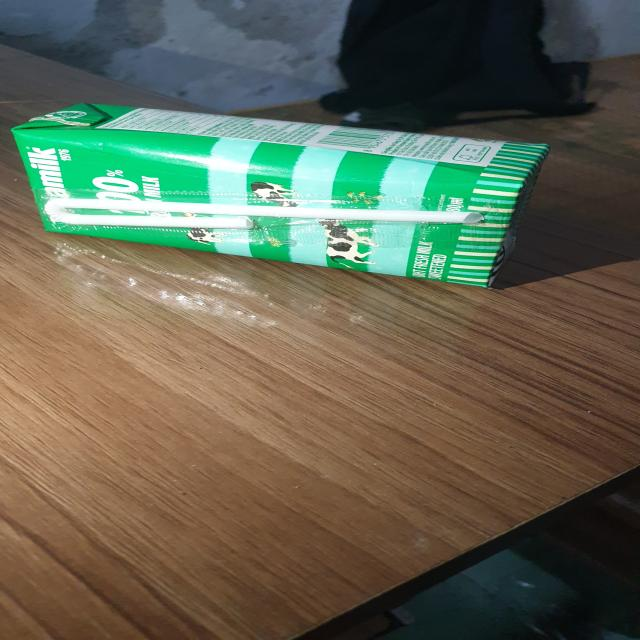Vina: (9, 102, 554, 292)
